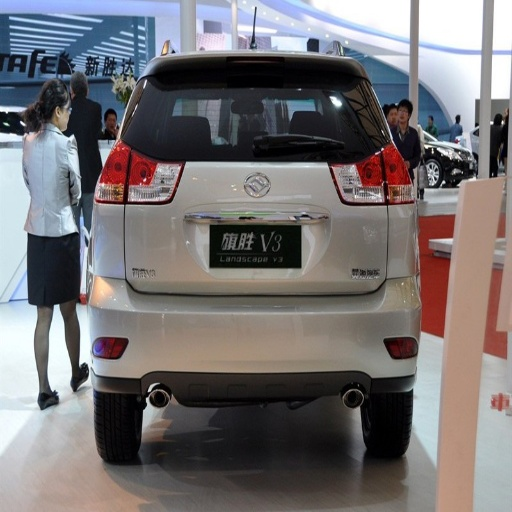_background_: (79, 204, 414, 405)
back_bumper: (127, 62, 381, 159)
back_left_door: (94, 142, 129, 205)
back_right_door: (385, 150, 416, 205)
right_mirror: (206, 228, 385, 296), (327, 146, 379, 173)
tailgate: (96, 147, 396, 366)
trunk: (94, 395, 143, 461), (361, 395, 412, 455)
